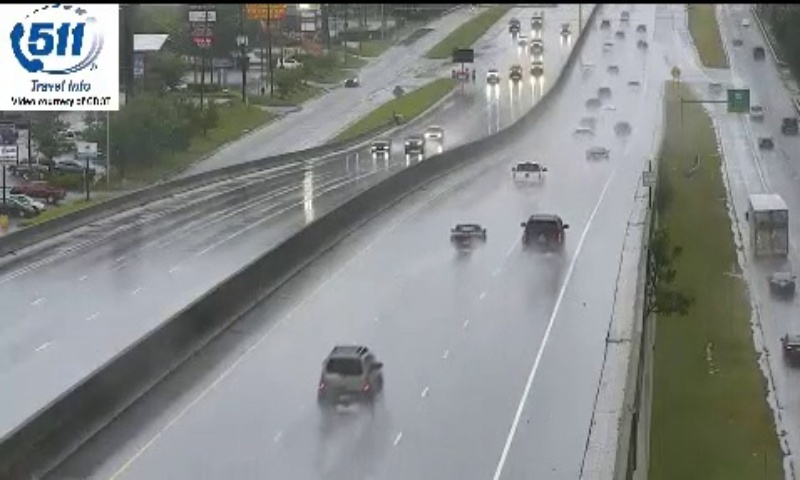car: (319, 348, 381, 405), (523, 215, 565, 255), (450, 223, 487, 250), (513, 161, 545, 186)
